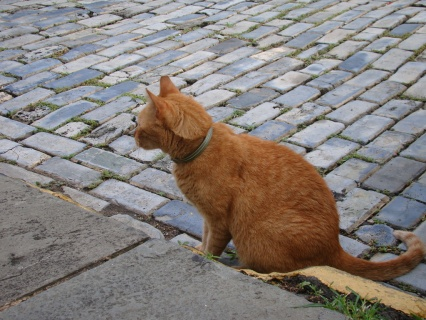Cat: (133, 73, 425, 283)
